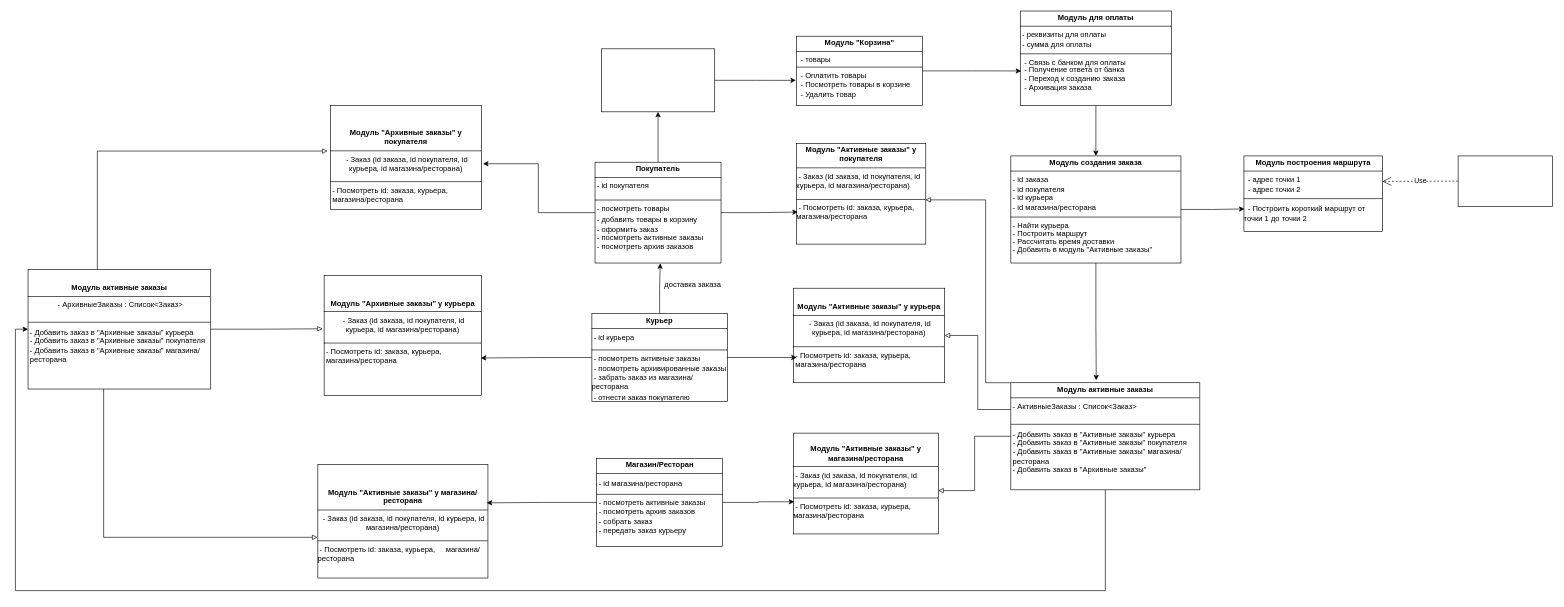
The diagram is 1564 pixels wide and 607 high, and some of its shapes have lost their labels. The shapes that lost their labels are listed below. From the top down, each one's box as (x1, y1, x2, y2) in pixels, then its label:
(601, 48, 715, 112): Модуль "Каталог товаров" - товары - Посмотреть товар - Добавить товар в корзину
(1458, 155, 1553, 206): Модуль расчета времени доставки - Рассчитать время по указанному маршруту
